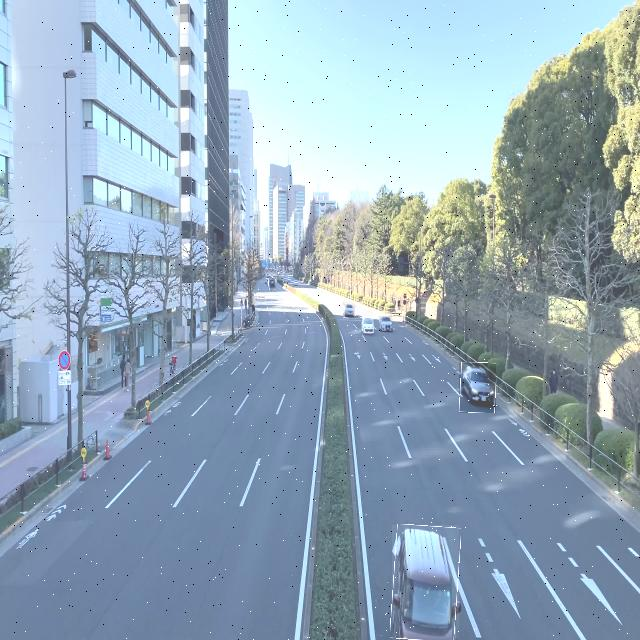Car: (392, 525, 459, 640), (459, 363, 496, 413), (362, 316, 374, 336), (379, 315, 393, 332), (343, 302, 356, 318), (269, 280, 276, 292)
